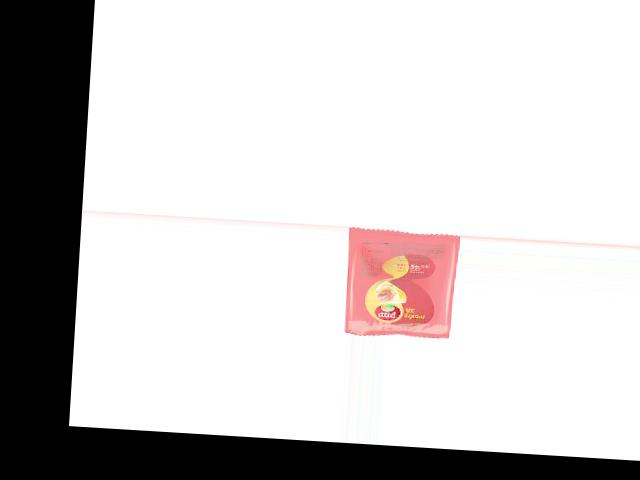cheese: (342, 226, 456, 339)
